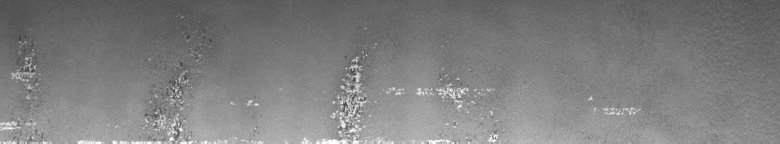hc: (141, 14, 260, 136)
